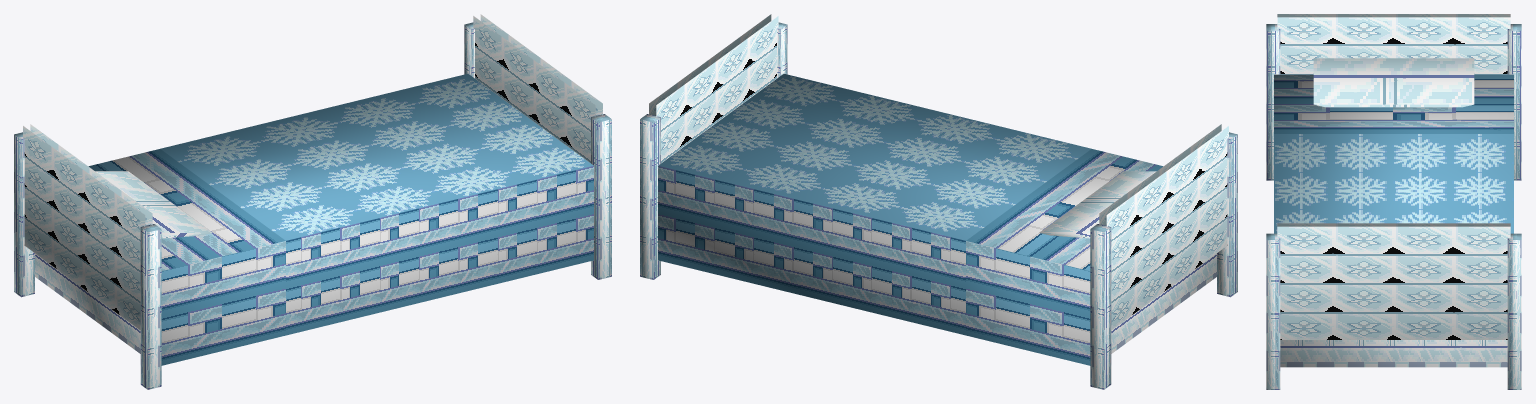
File: 3149IMFY03_01.gltf
The picture shows the model from 3 angles, left to right: view 1: azimuth 30°, elevation 25°; view 2: azimuth 150°, elevation 25°; view 3: azimuth 270°, elevation 25°; orthographic projection. The views are drawn at different scales.
Visible parts, largest first — view 1: 3149IMFY03_01; view 2: 3149IMFY03_01; view 3: 3149IMFY03_01.
Part boxes in pixels (x1,y1,x2,y2): 3149IMFY03_01: (14, 14, 611, 389); 3149IMFY03_01: (640, 14, 1237, 389); 3149IMFY03_01: (1266, 14, 1521, 389).
Size of the model in its own units: 1.92 by 0.6702 by 0.958.
Materials: 4 (4 with a texture image).
